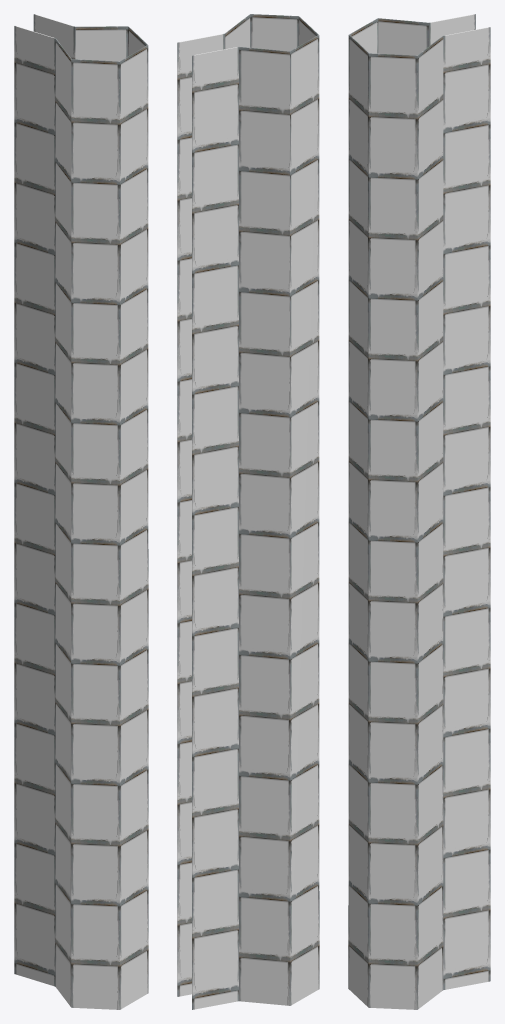
The model's file is Helper2.fbx.
3 renders of one model, left to right at view 1: azimuth 90°, elevation 25°; view 2: azimuth 150°, elevation 25°; view 3: azimuth 330°, elevation 25°, orthographic.
Visible parts, largest first — view 1: tv34kom02; view 2: tv34kom02; view 3: tv34kom02.
Part boxes in pixels (bbox=[...]): tv34kom02: bbox=[14, 14, 148, 1009]; tv34kom02: bbox=[177, 14, 319, 1009]; tv34kom02: bbox=[348, 14, 490, 1009].
Bounding box in the file's own units: 131 × 1212 × 156.
